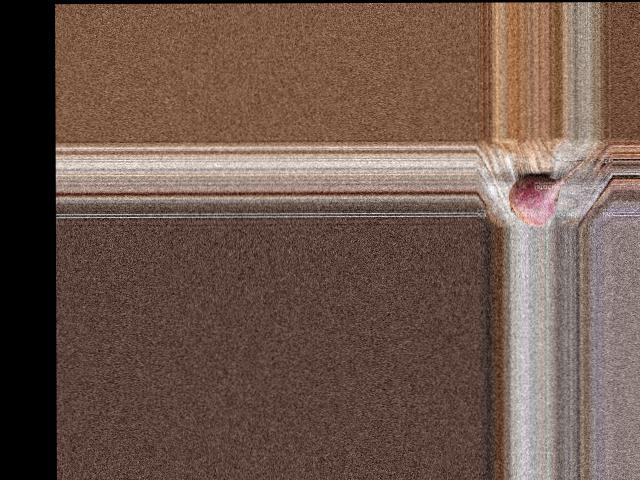beet: (509, 160, 584, 225)
